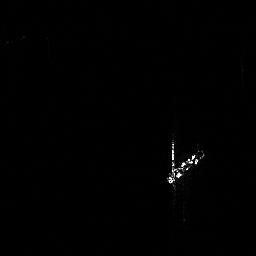ship: (167, 151, 205, 183)
